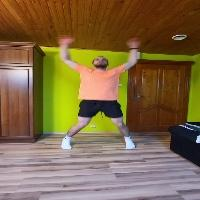jumping_jacks: (44, 32, 158, 161)
